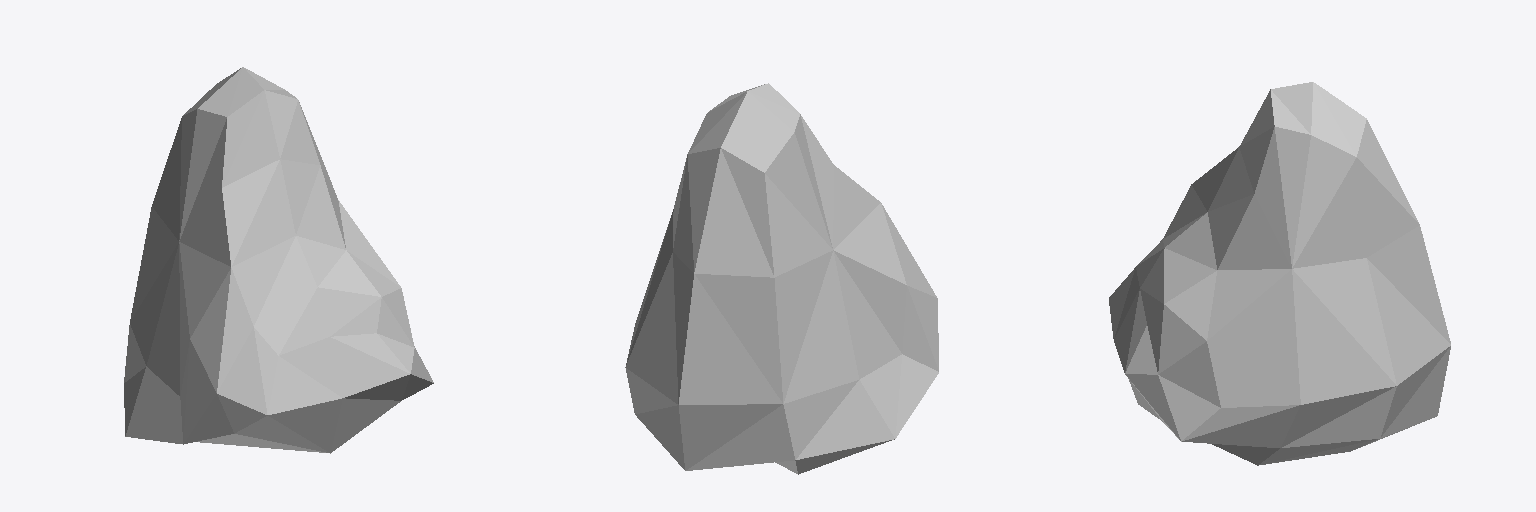
The model's file is Rock.obj.
3 views of the same model, side by side, from view 1: azimuth 30°, elevation 25°; view 2: azimuth 150°, elevation 25°; view 3: azimuth 270°, elevation 25° (orthographic).
Parts seen in each view (by area): view 1: Cube; view 2: Cube; view 3: Cube.
Boxes of the visible parts, box(x1,y1,x2,y2) form: Cube: box(124, 67, 433, 453); Cube: box(625, 83, 938, 474); Cube: box(1109, 82, 1450, 465).
Size of the model in its own units: 74.99 by 97.8 by 86.29.